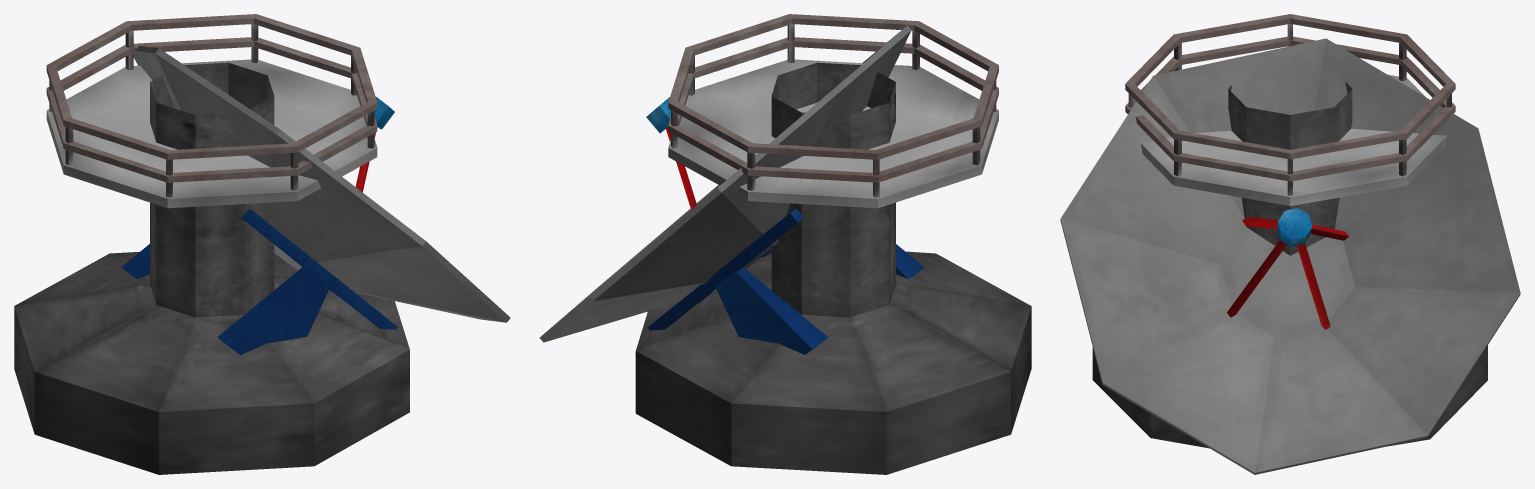
Rendered from TorreRadar1.fbx.
3 renders of one model, left to right at view 1: azimuth 30°, elevation 25°; view 2: azimuth 150°, elevation 25°; view 3: azimuth 270°, elevation 25°, orthographic. The views are drawn at different scales.
Visible parts, largest first — view 1: Base, Torre; view 2: Base, Torre; view 3: Torre, Base.
Part boxes in pixels (x1,y1,x2,y2): Base: (14, 14, 409, 474); Torre: (121, 46, 510, 354); Base: (635, 14, 1031, 474); Torre: (539, 25, 924, 354); Torre: (1060, 38, 1520, 474); Base: (1092, 14, 1487, 448).
Size of the model in its own units: 417 by 313 by 399.
